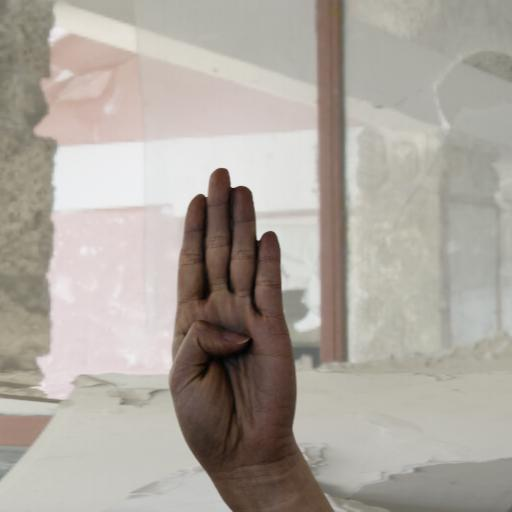B: (136, 144, 410, 512)
